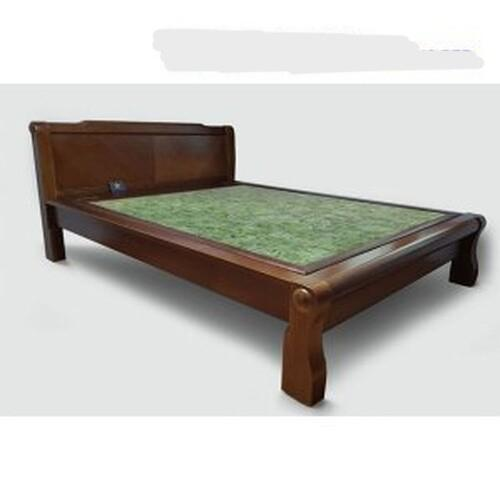Bed-Mattress: (20, 109, 495, 405)
